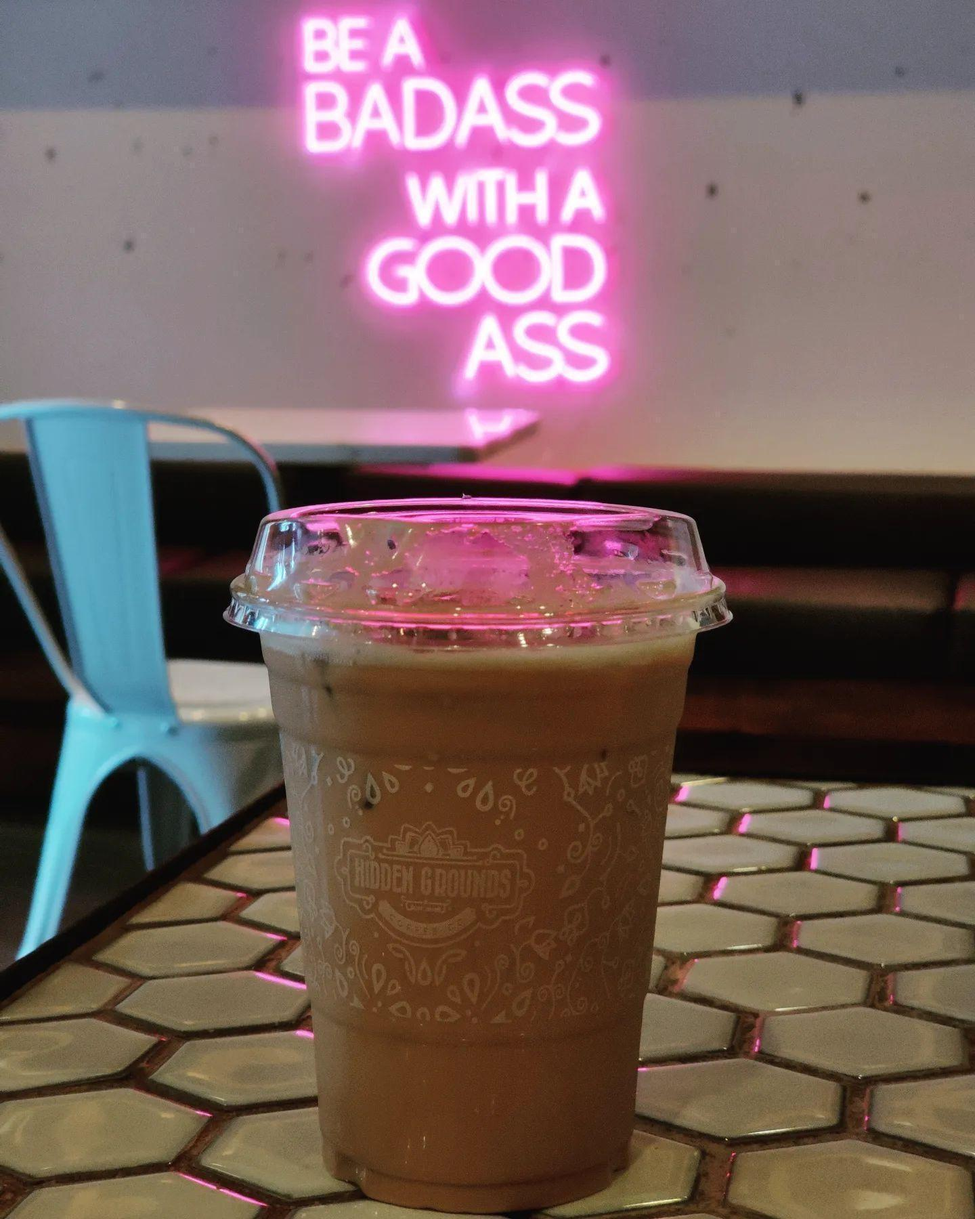cup-disposable: (229, 490, 740, 1219)
